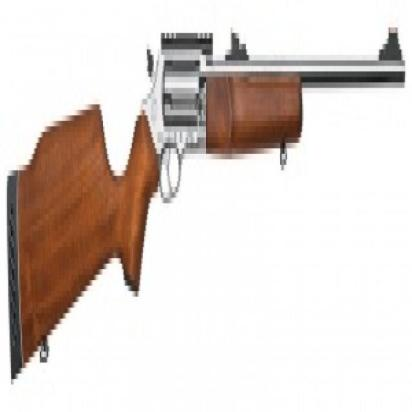Gun: (6, 17, 406, 387)
